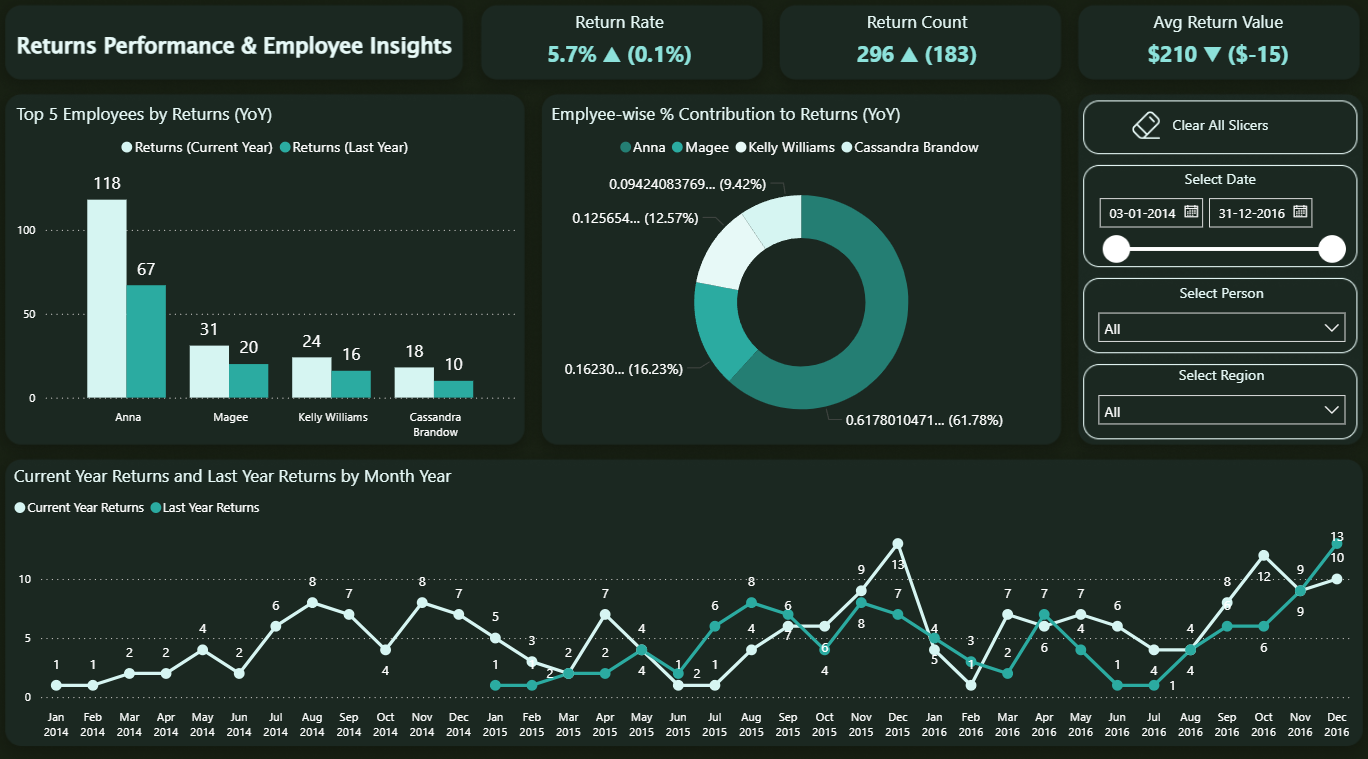

This screenshot's page, from the dashboard's own definition file:
{"tool":"powerbi","page":{"name":"Page 1","canvas":[1280,720],"ordinal":0},"visuals":[{"type":"card","title":"Return Rate ","fields":{"Values":[" MeasuresTable.Return Rate KPI Card"]},"box":[450,8,260.2,69.3],"z":0},{"type":"card","title":"Avg Return Value ","fields":{"Values":[" MeasuresTable.Avg Return Value KPI Card"]},"box":[1006.8,8,260.2,69.3],"z":1000},{"type":"card","title":"Return Count","fields":{"Values":[" MeasuresTable.Return Count KPI Card"]},"box":[726.1,8,260.2,69.3],"z":2000},{"type":"lineChart","fields":{"Y":[" MeasuresTable.Monthly_Return_Count"," MeasuresTable.Monthly_Return_Count_YoY"],"Category":["DateTable.Month Year"]},"box":[11.4,429.5,1255.7,269.3],"z":3000},{"type":"clusteredColumnChart","title":"Top 5 Employees by Returns (YoY)","fields":{"Category":["People.Person"],"Y":[" MeasuresTable.Return_Count"," MeasuresTable.Return_Count_YoY"]},"box":[13.6,94.3,476.1,327.3],"z":4000},{"type":"donutChart","title":"Emplyee-wise % Contribution to Returns (YoY)","fields":{"Y":[" MeasuresTable.Return_Contribution%"],"Category":["People.Person"]},"box":[511.4,94.3,475,327.3],"z":5000},{"type":"slicer","title":"Select Date","fields":{"Values":["DateTable.Date"]},"box":[1013.6,156.8,250,97.7],"z":6000},{"type":"slicer","title":"Select Person","fields":{"Values":["People.Person"]},"box":[1014.8,267,250,67],"z":7000},{"type":"slicer","title":"Select Region","fields":{"Values":["People.Region"]},"box":[1014.8,344.3,250,67],"z":8000},{"type":"shape","box":[1013.6,96.6,250,46.6],"z":9000},{"type":"shape","box":[13.6,17,415.9,60.2],"z":10000},{"type":"image","box":[1051.1,103.4,35.2,35.2],"z":11000}]}

Visuals, with their boxes in screenshot pixels (x1, y1, x2, y2), scaled from the page's 1280x720 canvas onto the 1368x759 screenshot:
"Return Rate " card: Rect(481, 8, 759, 81)
"Avg Return Value " card: Rect(1076, 8, 1354, 81)
"Return Count" card: Rect(776, 8, 1054, 81)
lineChart -  MeasuresTable.Monthly_Return_Count x  MeasuresTable.Monthly_Return_Count_YoY: Rect(12, 453, 1354, 737)
"Top 5 Employees by Returns (YoY)" clusteredColumnChart: Rect(15, 99, 523, 444)
"Emplyee-wise % Contribution to Returns (YoY)" donutChart: Rect(547, 99, 1054, 444)
"Select Date" slicer: Rect(1083, 165, 1350, 268)
"Select Person" slicer: Rect(1085, 281, 1352, 352)
"Select Region" slicer: Rect(1085, 363, 1352, 434)
shape: Rect(1083, 102, 1350, 151)
shape: Rect(15, 18, 459, 81)
image: Rect(1123, 109, 1161, 146)
